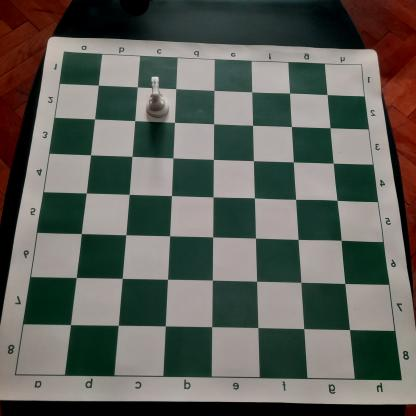white-knight: (142, 75, 172, 119)
